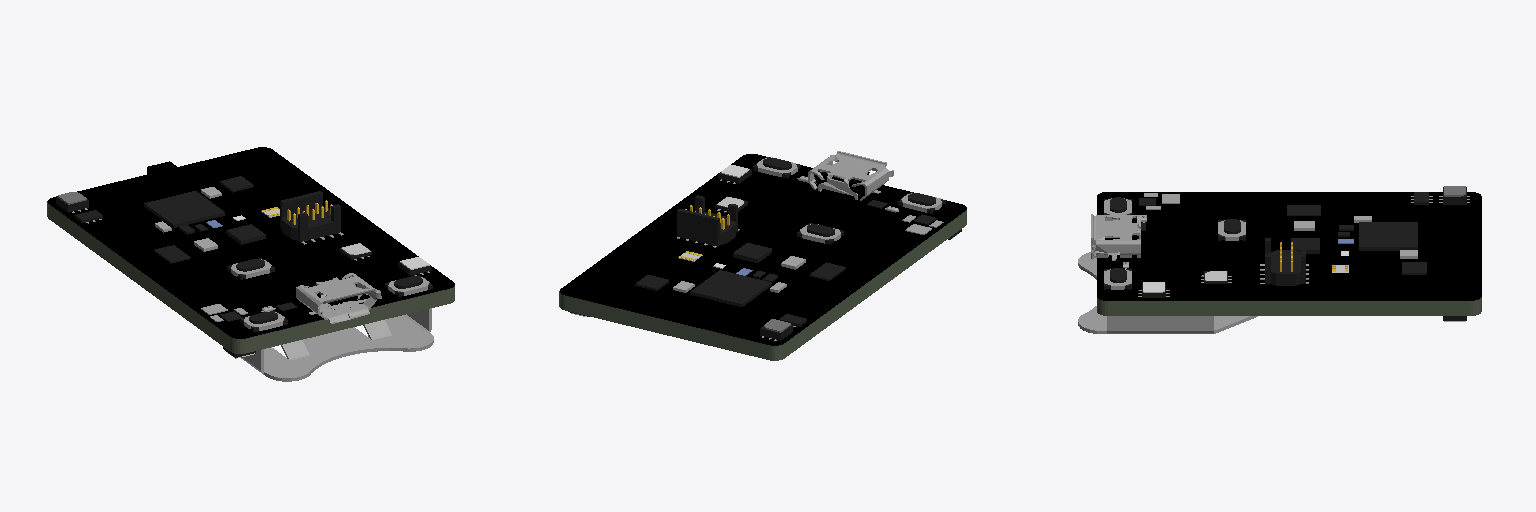
Rendered from TBSense_Rev_Lowpoly.obj.
The picture shows the model from 3 angles: view 1: azimuth 30°, elevation 25°; view 2: azimuth 150°, elevation 25°; view 3: azimuth 270°, elevation 25°; orthographic projection.
Visible parts, largest first — view 1: ThunderboardSense_LowPoly_007:ThunderboardSense_LowPoly newboard, ThunderboardSense_LowPoly_007:ThunderboardSense_LowPoly Thunderb, ThunderboardSense_LowPoly_007:MicroUSB_HDMI:microUSBport1 Thunde, ThunderboardSense_LowPoly_007:ThunderboardSense_LowPoly EFR32_06, ThunderboardSense_LowPoly_007:ThunderboardSense_LowPoly EFR32_04, ThunderboardSense_LowPoly_007:ThunderboardSense_LowPoly pCylinde; view 2: ThunderboardSense_LowPoly_007:ThunderboardSense_LowPoly newboard, ThunderboardSense_LowPoly_007:ThunderboardSense_LowPoly Thunderb, ThunderboardSense_LowPoly_007:MicroUSB_HDMI:microUSBport1 Thunde, ThunderboardSense_LowPoly_007:ThunderboardSense_LowPoly EFR32_06, ThunderboardSense_LowPoly_007:ThunderboardSense_LowPoly EFR32_04, ThunderboardSense_LowPoly_007:ThunderboardSense_LowPoly pCylinde; view 3: ThunderboardSense_LowPoly_007:ThunderboardSense_LowPoly newboard, ThunderboardSense_LowPoly_007:ThunderboardSense_LowPoly Thunderb, ThunderboardSense_LowPoly_007:MicroUSB_HDMI:microUSBport1 Thunde, ThunderboardSense_LowPoly_007:ThunderboardSense_LowPoly EFR32_06, ThunderboardSense_LowPoly_007:ThunderboardSense_LowPoly EFR32_04, ThunderboardSense_LowPoly_007:ThunderboardSense_LowPoly pCylinde.
Boxes of the visible parts, x1=… form: ThunderboardSense_LowPoly_007:ThunderboardSense_LowPoly newboard: x1=47, y1=147, x2=454, y2=353; ThunderboardSense_LowPoly_007:ThunderboardSense_LowPoly Thunderb: x1=56, y1=191, x2=433, y2=381; ThunderboardSense_LowPoly_007:MicroUSB_HDMI:microUSBport1 Thunde: x1=296, y1=273, x2=381, y2=323; ThunderboardSense_LowPoly_007:ThunderboardSense_LowPoly EFR32_06: x1=144, y1=191, x2=224, y2=227; ThunderboardSense_LowPoly_007:ThunderboardSense_LowPoly EFR32_04: x1=155, y1=176, x2=253, y2=314; ThunderboardSense_LowPoly_007:ThunderboardSense_LowPoly pCylinde: x1=236, y1=259, x2=422, y2=323; ThunderboardSense_LowPoly_007:ThunderboardSense_LowPoly newboard: x1=559, y1=154, x2=966, y2=360; ThunderboardSense_LowPoly_007:ThunderboardSense_LowPoly Thunderb: x1=568, y1=165, x2=961, y2=340; ThunderboardSense_LowPoly_007:MicroUSB_HDMI:microUSBport1 Thunde: x1=808, y1=151, x2=893, y2=200; ThunderboardSense_LowPoly_007:ThunderboardSense_LowPoly EFR32_06: x1=690, y1=270, x2=771, y2=306; ThunderboardSense_LowPoly_007:ThunderboardSense_LowPoly EFR32_04: x1=635, y1=224, x2=931, y2=292; ThunderboardSense_LowPoly_007:ThunderboardSense_LowPoly pCylinde: x1=763, y1=158, x2=935, y2=236; ThunderboardSense_LowPoly_007:ThunderboardSense_LowPoly newboard: x1=1097, y1=192, x2=1481, y2=315; ThunderboardSense_LowPoly_007:ThunderboardSense_LowPoly Thunderb: x1=1078, y1=186, x2=1469, y2=333; ThunderboardSense_LowPoly_007:MicroUSB_HDMI:microUSBport1 Thunde: x1=1091, y1=214, x2=1140, y2=260; ThunderboardSense_LowPoly_007:ThunderboardSense_LowPoly EFR32_06: x1=1359, y1=222, x2=1417, y2=250; ThunderboardSense_LowPoly_007:ThunderboardSense_LowPoly EFR32_04: x1=1162, y1=194, x2=1426, y2=274; ThunderboardSense_LowPoly_007:ThunderboardSense_LowPoly pCylinde: x1=1110, y1=197, x2=1240, y2=282.
Size of the model in its own units: 6.9 by 2.15 by 10.79.